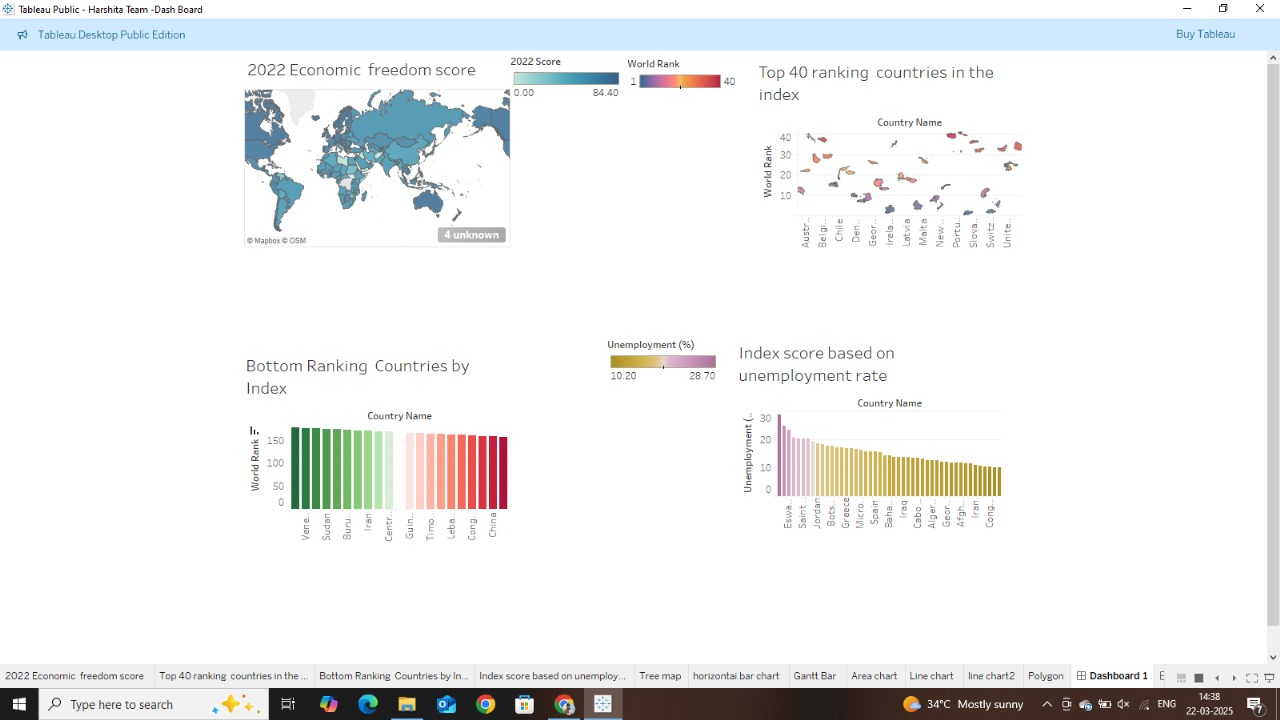

The dashboard page shown, as its layout file describes it:
{"tool":"tableau","page":{"name":"Dashboard 1","canvas":[1000,800],"ordinal":0},"visuals":[{"type":"worksheet","title":"2022 Economic  freedom score","mark":"Automatic","box":[14,5,333,241]},{"type":"legend","title":"2022 Economic  freedom score","param":"[federated.0pbhh900wvvba615hu5fw183r2ev].[sum:2022 Score:qk]","box":[347,5,140,76]},{"type":"legend","title":"Top 40 ranking  countries in the index","param":"[federated.0pbhh900wvvba615hu5fw183r2ev].[sum:World Rank:qk]","box":[493,8,140,76]},{"type":"worksheet","title":"Top 40 ranking  countries in the index","mark":"Multipolygon","rows":["World Rank"],"cols":["Country Name"],"box":[653,8,333,241]},{"type":"legend","title":"Index score based on unemployment rate","param":"[federated.0pbhh900wvvba615hu5fw183r2ev].[sum:Unemployment (%):qk]","box":[468,359,140,76]},{"type":"worksheet","title":"Index score based on unemployment rate","mark":"Automatic","rows":["Unemployment (%)"],"cols":["Country Name"],"box":[628,359,333,241]},{"type":"worksheet","title":"Bottom Ranking  Countries by Index","mark":"Automatic","rows":["World Rank"],"cols":["Country Name"],"box":[12,375,333,241]},{"type":"dashboard-object","box":[801,655,164,41]}]}

Visuals, with their boxes on the page's 1000x800 design canvas (x1, y1, x2, y2). These are canvas units, not pixel positions in the 1280x720 screenshot, which may show the page scaled, cropped or inside an application window:
"2022 Economic  freedom score" worksheet: Rect(14, 5, 347, 246)
"2022 Economic  freedom score" legend: Rect(347, 5, 487, 81)
"Top 40 ranking  countries in the index" legend: Rect(493, 8, 633, 84)
"Top 40 ranking  countries in the index" worksheet (Multipolygon marks): Rect(653, 8, 986, 249)
"Index score based on unemployment rate" legend: Rect(468, 359, 608, 435)
"Index score based on unemployment rate" worksheet: Rect(628, 359, 961, 600)
"Bottom Ranking  Countries by Index" worksheet: Rect(12, 375, 345, 616)
dashboard-object: Rect(801, 655, 965, 696)
